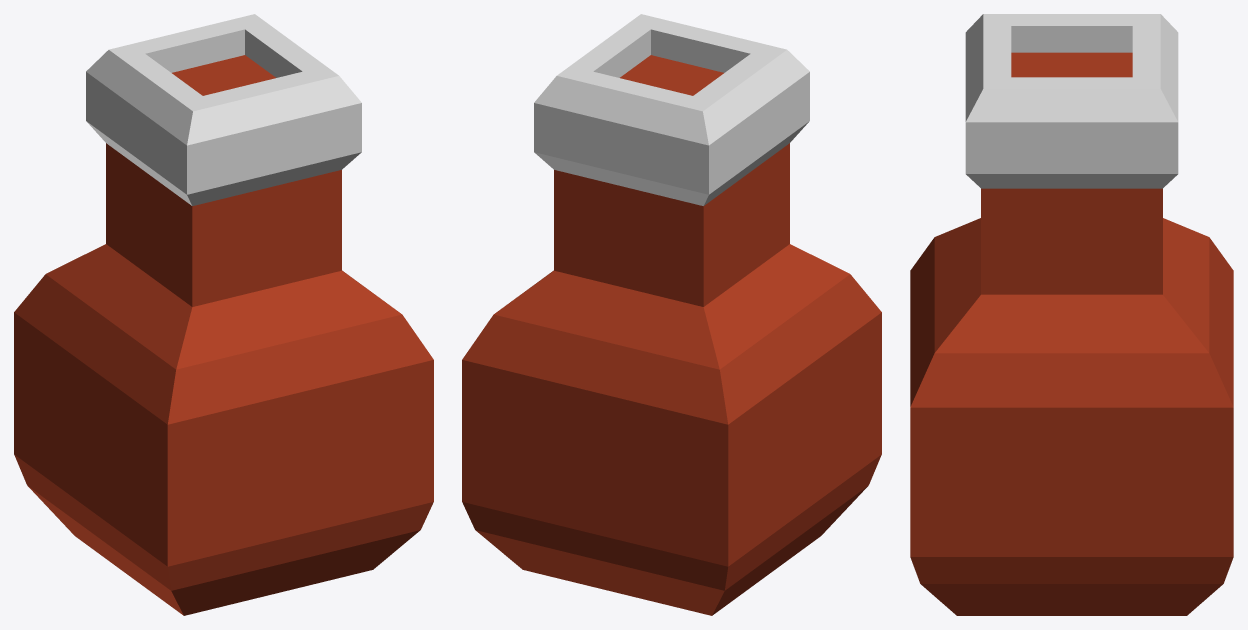
File: Potion.fbx
3 views of the same model, side by side, from view 1: azimuth 30°, elevation 25°; view 2: azimuth 150°, elevation 25°; view 3: azimuth 270°, elevation 25° (orthographic). The views are drawn at different scales.
Parts seen in each view (by area): view 1: Potion; view 2: Potion; view 3: Potion.
Part boxes in pixels (x1,y1,x2,y2): Potion: [14, 14, 433, 615]; Potion: [462, 14, 881, 615]; Potion: [910, 14, 1233, 615].
Size of the model in its own units: 0.2466 by 0.4339 by 0.2466.
